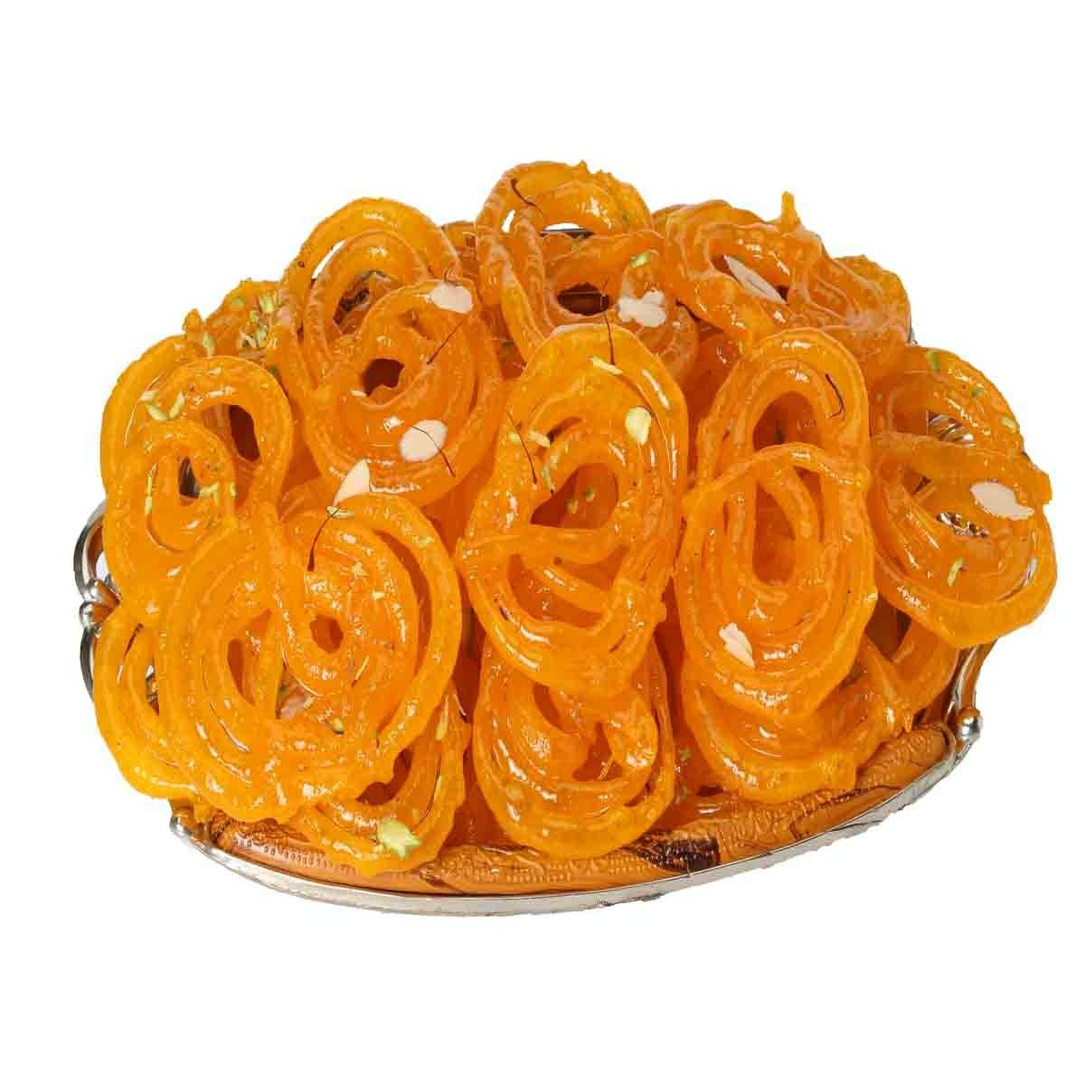Jalebi: (78, 147, 1055, 869)
